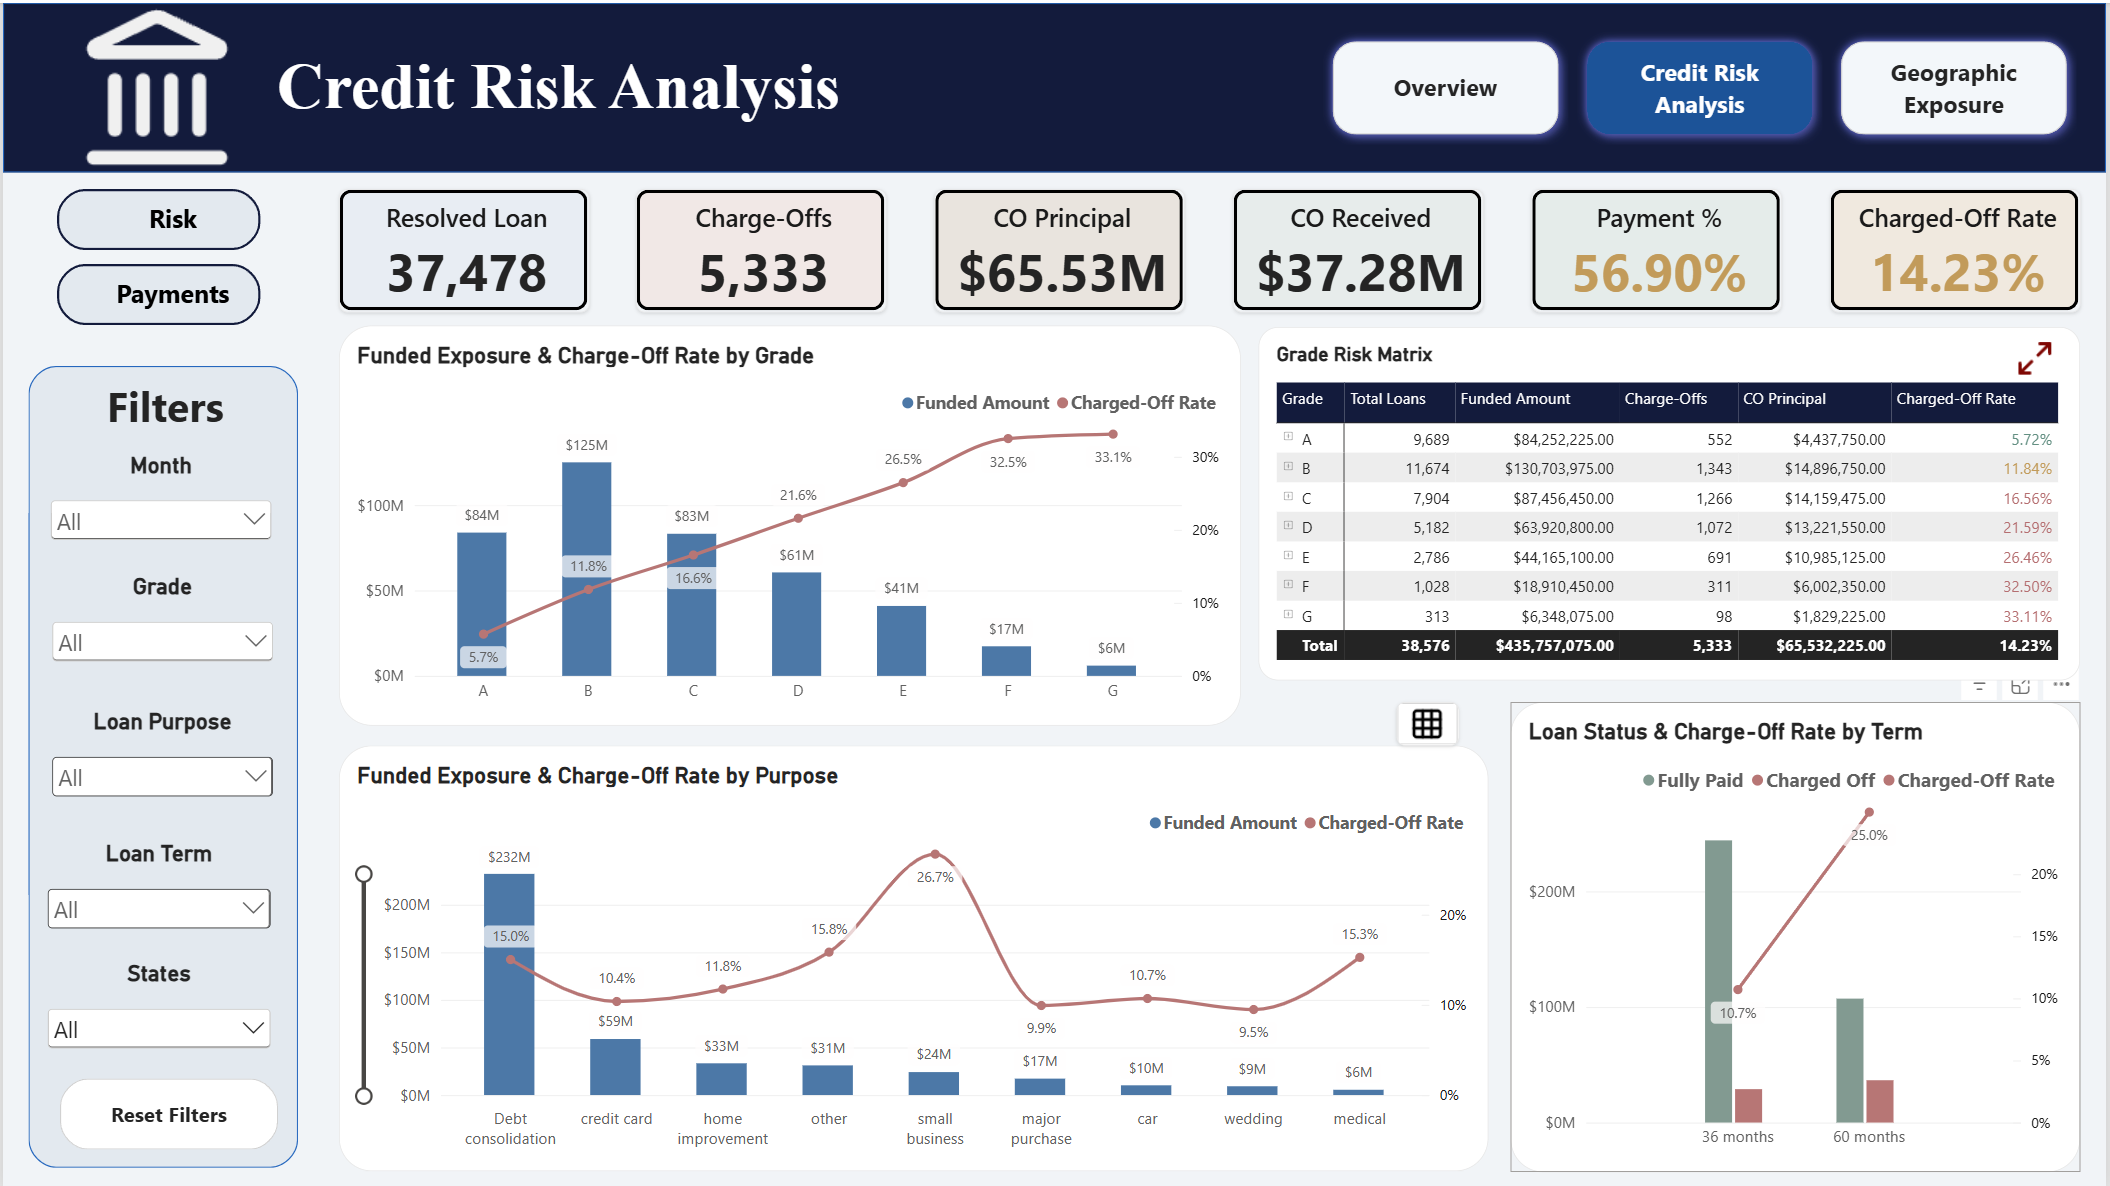

This screenshot's page, from the dashboard's own definition file:
{"tool":"powerbi","page":{"name":"Credit Risk Analysis","canvas":[1920,1080],"ordinal":1},"visuals":[{"type":"shape","box":[0,0,1919.9,154.7],"z":1000},{"type":"shape","box":[23.2,331.2,246.1,732],"z":2000},{"type":"cardVisual","fields":{"Data":["Calculated_Measures.Charge-Offs"]},"box":[578.5,170.4,228.4,112.4],"z":3000},{"type":"lineClusteredColumnComboChart","title":"Funded Exposure & Charge-Off Rate by Grade","fields":{"Category":["analytics Dim_CreditGrade.grade"],"Y":["Calculated_Measures.Funded Amount"],"Y2":["Calculated_Measures.Charged-Off Rate"]},"box":[306.4,294,823.3,365.2],"z":4000},{"type":"cardVisual","fields":{"Data":["Calculated_Measures.Charged-Off Principal"]},"box":[850.8,170.4,228.4,112.4],"z":5000},{"type":"cardVisual","fields":{"Data":["Calculated_Measures.Charged-Off Rate"]},"box":[1667.5,170.4,228.4,112.4],"z":6000},{"type":"textbox","box":[208.2,42.5,576.5,69.8],"z":7000},{"type":"slicer","title":"Loan Purpose","fields":{"Values":["analytics Dim_LoanPurpose.purpose"]},"box":[40.2,643.8,211.9,110.5],"z":8000},{"type":"actionButton","title":"Reset Filter","box":[52.5,981.7,199.1,65],"z":9000},{"type":"slicer","title":"Grade","fields":{"Values":["analytics Dim_CreditGrade.grade"]},"box":[40.2,520,211.9,123.2],"z":10000},{"type":"textbox","box":[32.5,342,230.5,81.7],"z":11000},{"type":"cardVisual","fields":{"Data":["Calculated_Measures.Received on Charge-Offs"]},"box":[1123,170.4,228.4,112.4],"z":12000},{"type":"lineStackedColumnComboChart","title":"Funded Exposure & Charge-Off Rate by Purpose","fields":{"Category":["analytics Dim_LoanPurpose.purpose"],"Y":["Calculated_Measures.Funded Amount"],"Y2":["Calculated_Measures.Charged-Off Rate"]},"box":[306.4,677.8,1049.3,388.4],"z":13000},{"type":"lineClusteredColumnComboChart","title":"Loan Status & Charge-Off Rate by Term","fields":{"Category":["analytics Fact_Loan.term"],"Series":["analytics Fact_Loan.loan_status"],"Y":["Calculated_Measures.2_Funded Amount"],"Y2":["Calculated_Measures.Charged-Off Rate"]},"box":[1376.6,637.6,519.8,429.3],"z":14000},{"type":"pivotTable","title":"Grade Risk Matrix","fields":{"Rows":["analytics Dim_CreditGrade.Grade","analytics Dim_CreditGrade.sub_grade"],"Values":["Calculated_Measures.Total Loans","Calculated_Measures.Funded Amount","Calculated_Measures.chargedoffloans","Calculated_Measures.Charged Off Amount","Calculated_Measures.Charged-Off Rate"]},"box":[1146.6,295.2,749.9,322.4],"z":15000},{"type":"slicer","title":"Loan Term","fields":{"Values":["analytics Fact_Loan.term"]},"box":[35.6,764.5,213.7,108.7],"z":16000},{"type":"slicer","title":"States","fields":{"Values":["analytics Dim_State.state_name"]},"box":[36.2,873.1,213.7,108.7],"z":17000},{"type":"cardVisual","fields":{"Data":["Calculated_Measures.Payment %"]},"box":[1395.2,170.4,228.4,112.4],"z":18000},{"type":"cardVisual","fields":{"Data":["Calculated_Measures.Resolved Loan"]},"box":[306.3,170.4,228.4,112.4],"z":19000},{"type":"slicer","title":"Month","fields":{"Values":["analytics Dim_Date.Date.Variation.Date Hierarchy.Month"]},"box":[38.7,410.1,211.9,110.5],"z":20000},{"type":"pageNavigator","box":[1204.6,26.3,690.6,103.3],"z":21000},{"type":"actionButton","title":"Risk","box":[49.5,170.2,185.7,55.7],"z":22000},{"type":"actionButton","title":"Payments","box":[49.5,238.3,185.7,55.7],"z":23000},{"type":"image","box":[10.9,0,259,154],"z":24000},{"type":"actionButton","title":"Maximize","box":[1833.9,306.4,43.3,35.6],"z":25000},{"type":"actionButton","title":"Risk Table button","box":[1271.5,637.6,57.3,40.2],"z":33000}]}

Visuals, with their boxes in screenshot pixels (x1, y1, x2, y2), scaled from the page's 1920x1080 canvas onto the 2110x1186 screenshot:
shape: Rect(0, 0, 2109, 170)
shape: Rect(25, 364, 296, 1168)
cardVisual - Calculated_Measures.Charge-Offs: Rect(636, 187, 887, 311)
"Funded Exposure & Charge-Off Rate by Grade" lineClusteredColumnComboChart: Rect(337, 323, 1241, 724)
cardVisual - Calculated_Measures.Charged-Off Principal: Rect(935, 187, 1186, 311)
cardVisual - Calculated_Measures.Charged-Off Rate: Rect(1833, 187, 2084, 311)
textbox: Rect(229, 47, 862, 123)
"Loan Purpose" slicer: Rect(44, 707, 277, 828)
"Reset Filter" actionButton: Rect(58, 1078, 276, 1149)
"Grade" slicer: Rect(44, 571, 277, 706)
textbox: Rect(36, 376, 289, 465)
cardVisual - Calculated_Measures.Received on Charge-Offs: Rect(1234, 187, 1485, 311)
"Funded Exposure & Charge-Off Rate by Purpose" lineStackedColumnComboChart: Rect(337, 744, 1490, 1171)
"Loan Status & Charge-Off Rate by Term" lineClusteredColumnComboChart: Rect(1513, 700, 2084, 1172)
"Grade Risk Matrix" pivotTable: Rect(1260, 324, 2084, 678)
"Loan Term" slicer: Rect(39, 840, 274, 959)
"States" slicer: Rect(40, 959, 275, 1078)
cardVisual - Calculated_Measures.Payment %: Rect(1533, 187, 1784, 311)
cardVisual - Calculated_Measures.Resolved Loan: Rect(337, 187, 588, 311)
"Month" slicer: Rect(43, 450, 275, 572)
pageNavigator: Rect(1324, 29, 2083, 142)
"Risk" actionButton: Rect(54, 187, 258, 248)
"Payments" actionButton: Rect(54, 262, 258, 323)
image: Rect(12, 0, 297, 169)
"Maximize" actionButton: Rect(2015, 336, 2063, 376)
"Risk Table button" actionButton: Rect(1397, 700, 1460, 744)
